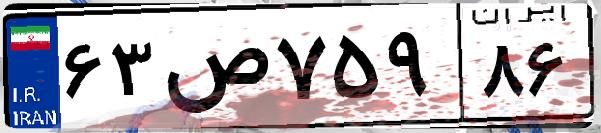3: (110, 28, 158, 98)
5: (330, 28, 385, 110)
6: (57, 26, 110, 100), (525, 38, 570, 115)
7: (270, 28, 330, 110)
8: (475, 38, 525, 113)
9: (385, 28, 445, 110)
ص: (158, 20, 270, 120)
